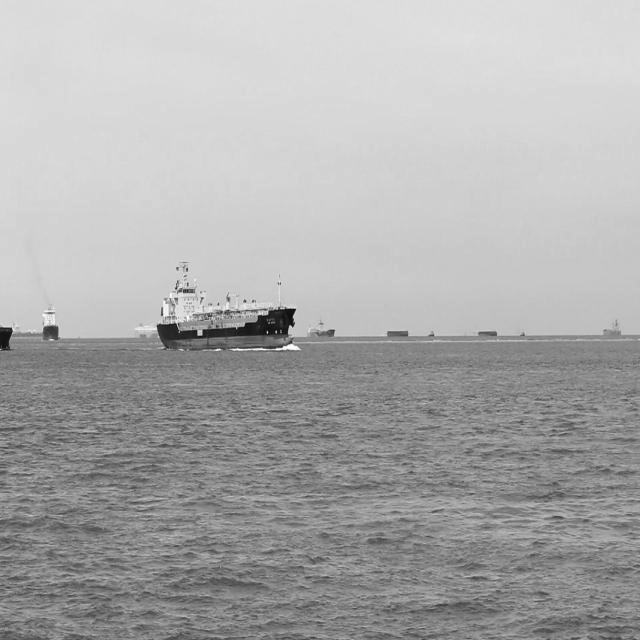ship: (155, 256, 299, 354), (43, 304, 61, 343), (306, 317, 336, 339), (12, 320, 42, 340), (601, 313, 625, 338)
